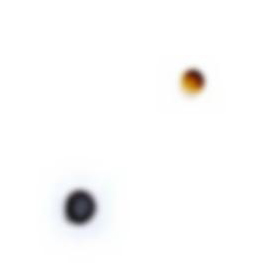cancer: (45, 168, 122, 246)
normal: (169, 58, 213, 103)
